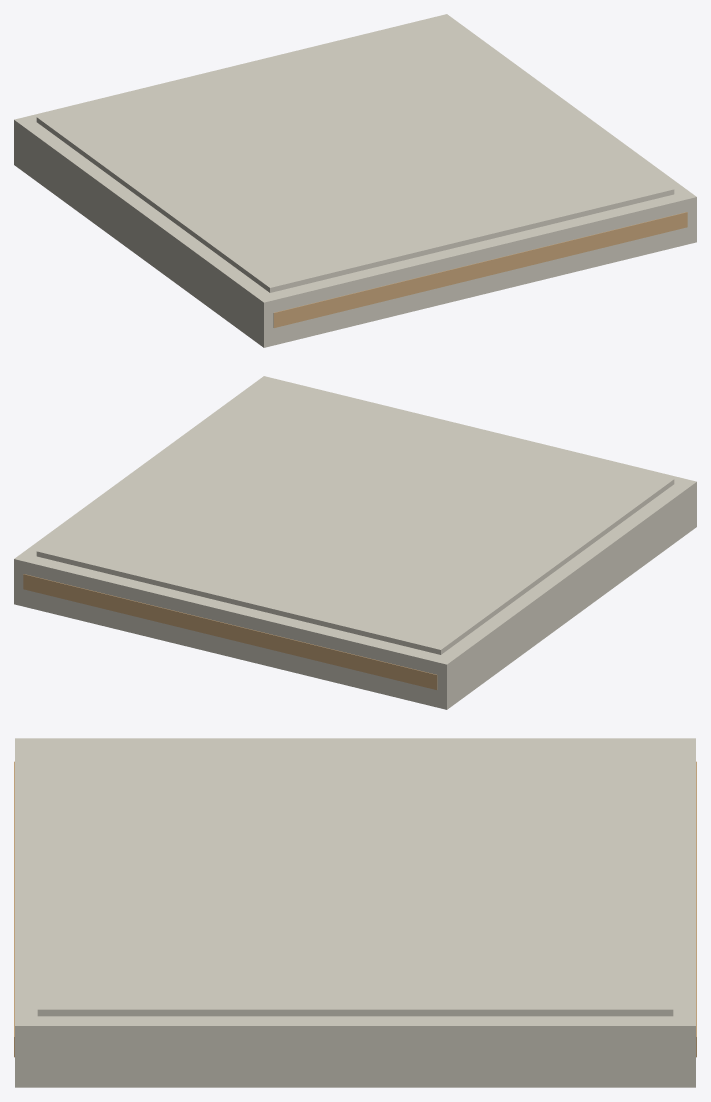
The model's file is lawn-mowing-simulator-kit-path-slab-75ebe72c__27393.glb.
3 renders of one model, top to bottom at view 1: azimuth 30°, elevation 25°; view 2: azimuth 150°, elevation 25°; view 3: azimuth 270°, elevation 25°, orthographic. The views are drawn at different scales.
Visible parts, largest first — view 1: path-slab; view 2: path-slab; view 3: path-slab.
Part boxes in pixels (bbox=[...]): path-slab: bbox=[14, 14, 696, 347]; path-slab: bbox=[14, 376, 696, 709]; path-slab: bbox=[14, 738, 696, 1087].
Bounding box in the file's own units: 0.9 × 0.1 × 0.9024.
